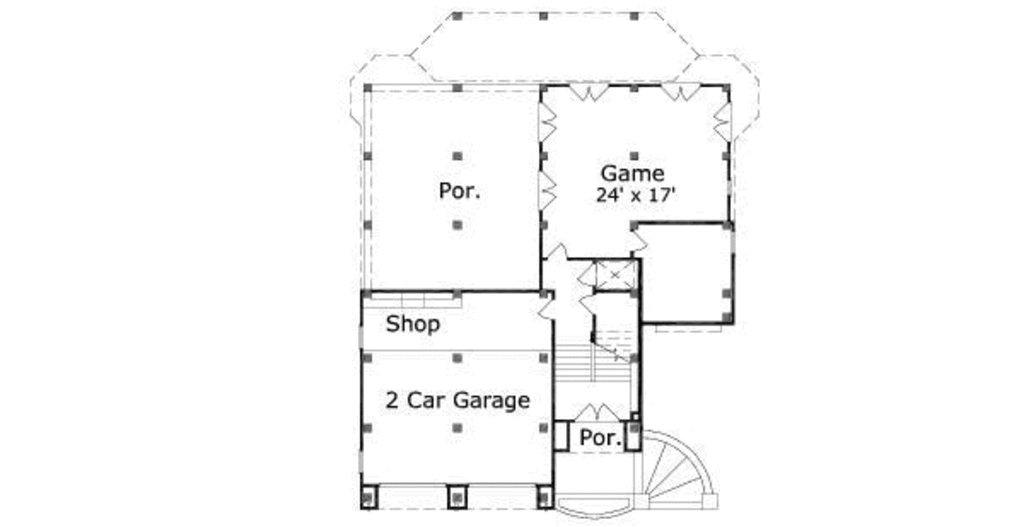door: (569, 402, 619, 425), (712, 98, 735, 146), (534, 168, 558, 211), (569, 78, 611, 102), (659, 82, 704, 104), (538, 104, 560, 145), (543, 241, 572, 261), (576, 260, 597, 287), (535, 297, 555, 321), (578, 293, 595, 317)
stairs: (555, 337, 633, 395)
